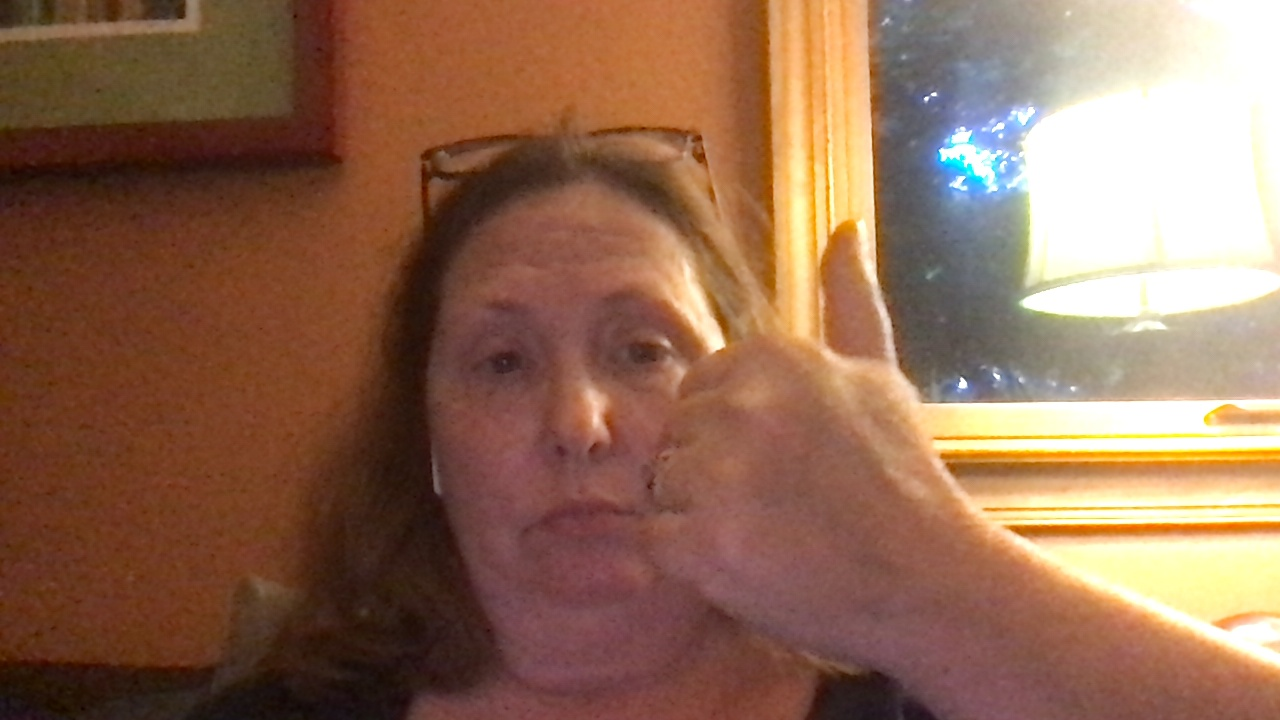thumbsup: (635, 215, 941, 671)
